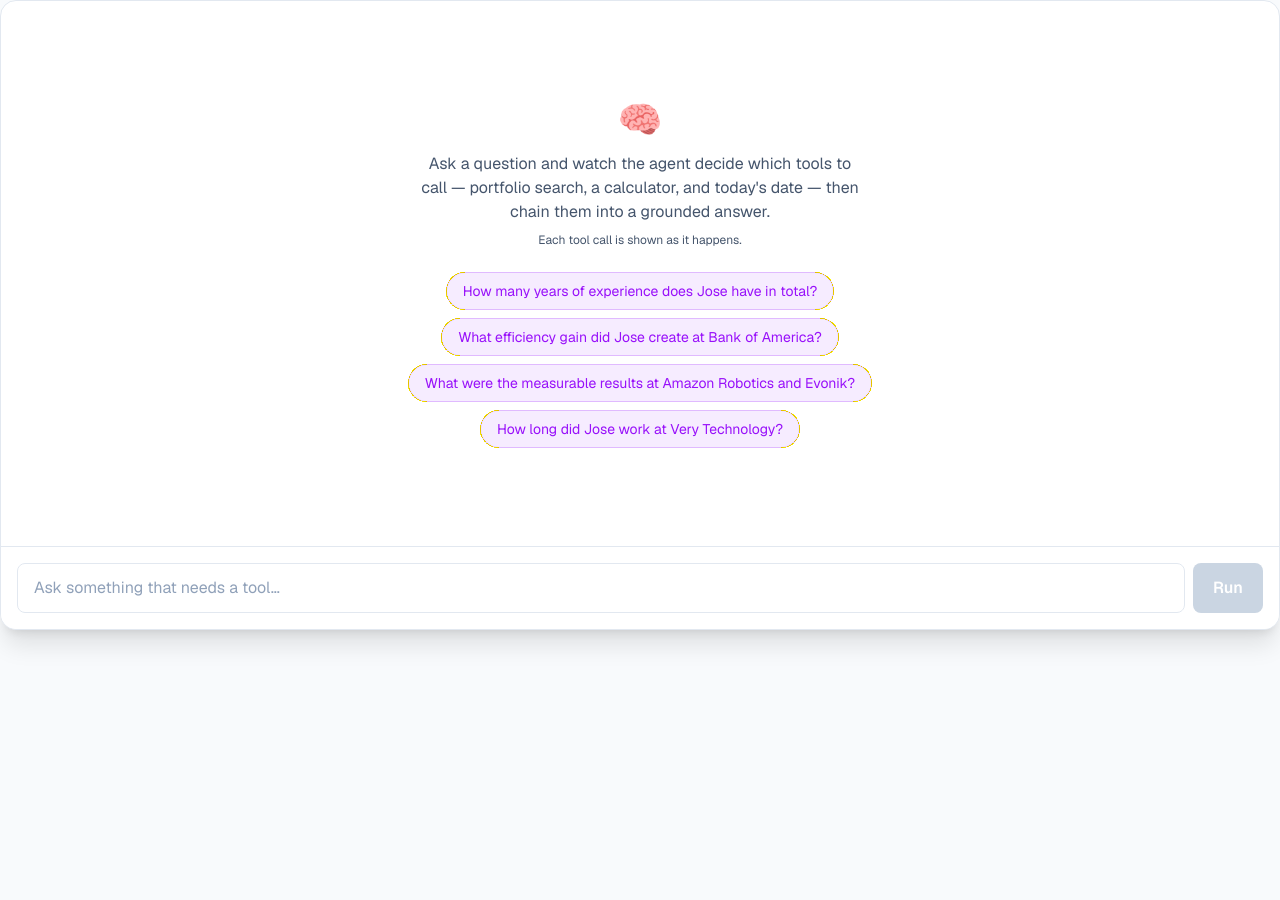
Test: AgentDemo (streaming) › renders a mid-stream error event as an error bubble
Click the button "How long did Jose work at Very Technology?".
click(640, 428)  # box [480, 410, 800, 448]
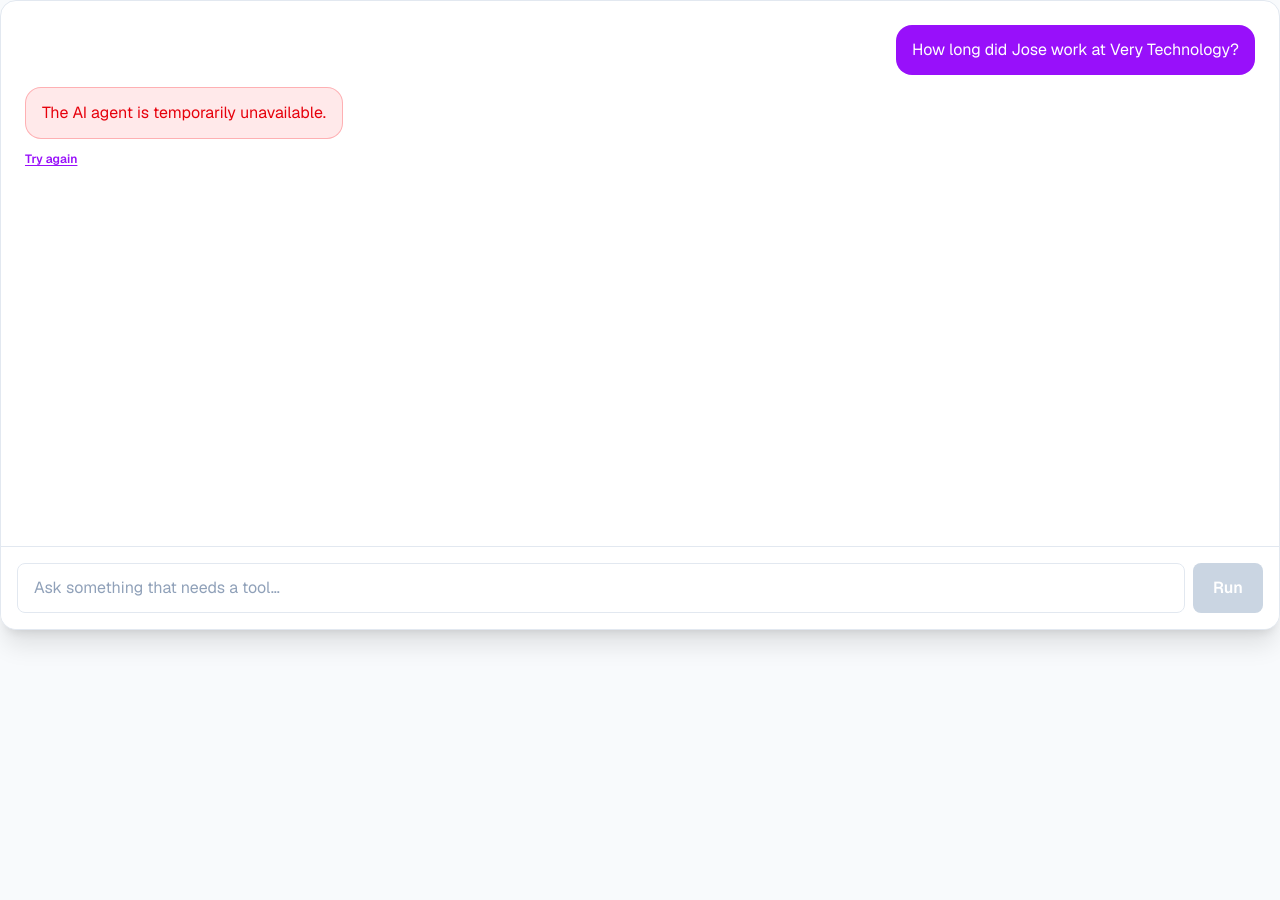
Result: the text "The AI agent is temporarily unavailable." is shown at [42, 100, 326, 126]
